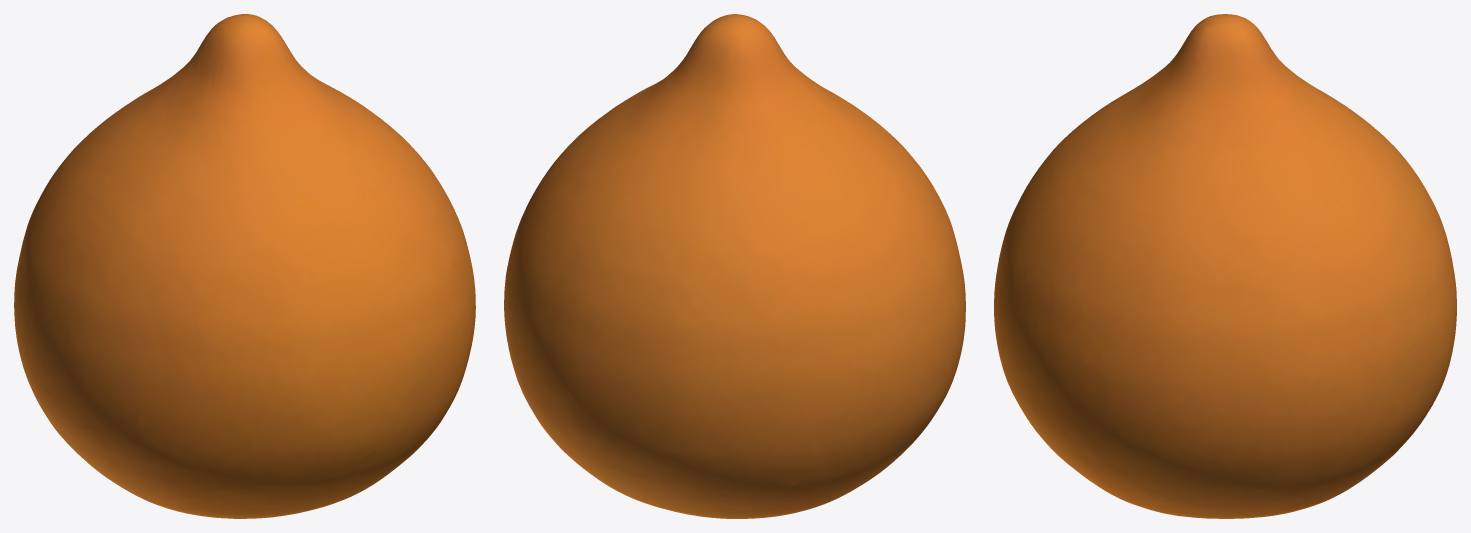
The model's file is tripo_convert_205557c8-2e9e-4eec-a235-ba399f66be8e.fbx.
3 renders of one model, left to right at view 1: azimuth 30°, elevation 25°; view 2: azimuth 150°, elevation 25°; view 3: azimuth 270°, elevation 25°, orthographic.
Parts seen in each view (by area): view 1: tripo_node_205557c8; view 2: tripo_node_205557c8; view 3: tripo_node_205557c8.
Boxes of the visible parts, box(x1,y1,x2,y2) form: tripo_node_205557c8: box(14, 14, 475, 518); tripo_node_205557c8: box(504, 14, 965, 518); tripo_node_205557c8: box(994, 14, 1456, 518).
Bounding box in the file's own units: 0.8915 × 1 × 0.8936.
Materials: 1 (1 with a texture image).
